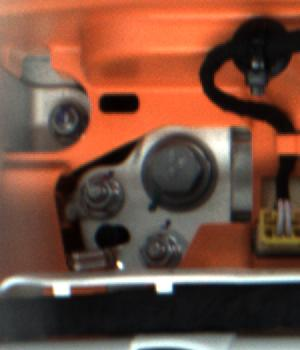nut_b: (139, 133, 222, 211)
